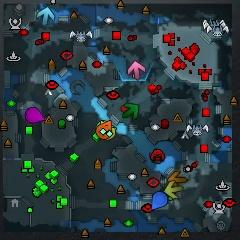p1: (151, 191, 167, 210)
p3: (25, 107, 45, 124)
p4: (106, 126, 116, 141)
p5: (96, 121, 112, 139)
x1: (127, 61, 145, 79)
x2: (164, 181, 183, 199)
x3: (37, 7, 55, 26)
x4: (122, 103, 139, 120)
x5: (168, 171, 187, 184)
